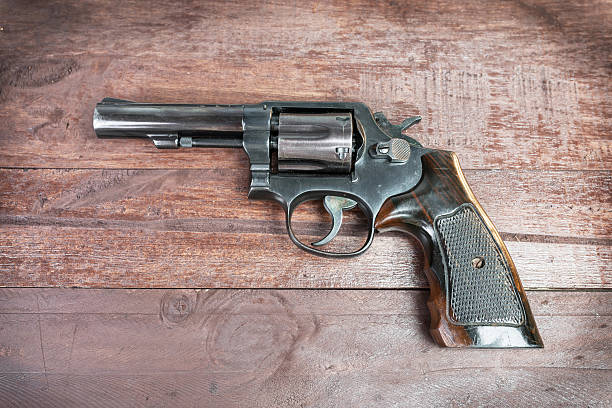gun: (92, 92, 547, 350)
